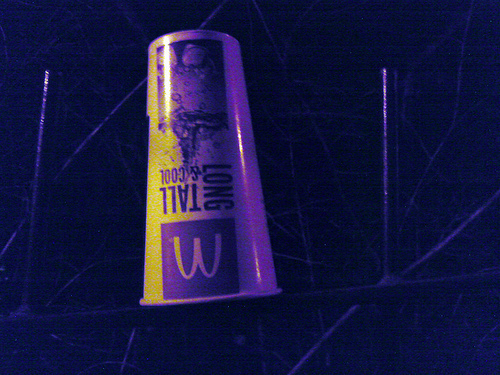litter: (140, 30, 282, 307)
